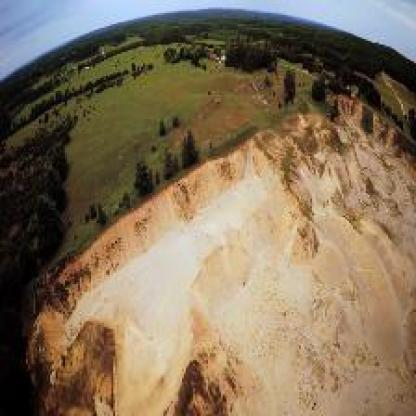other: (57, 170, 320, 344)
